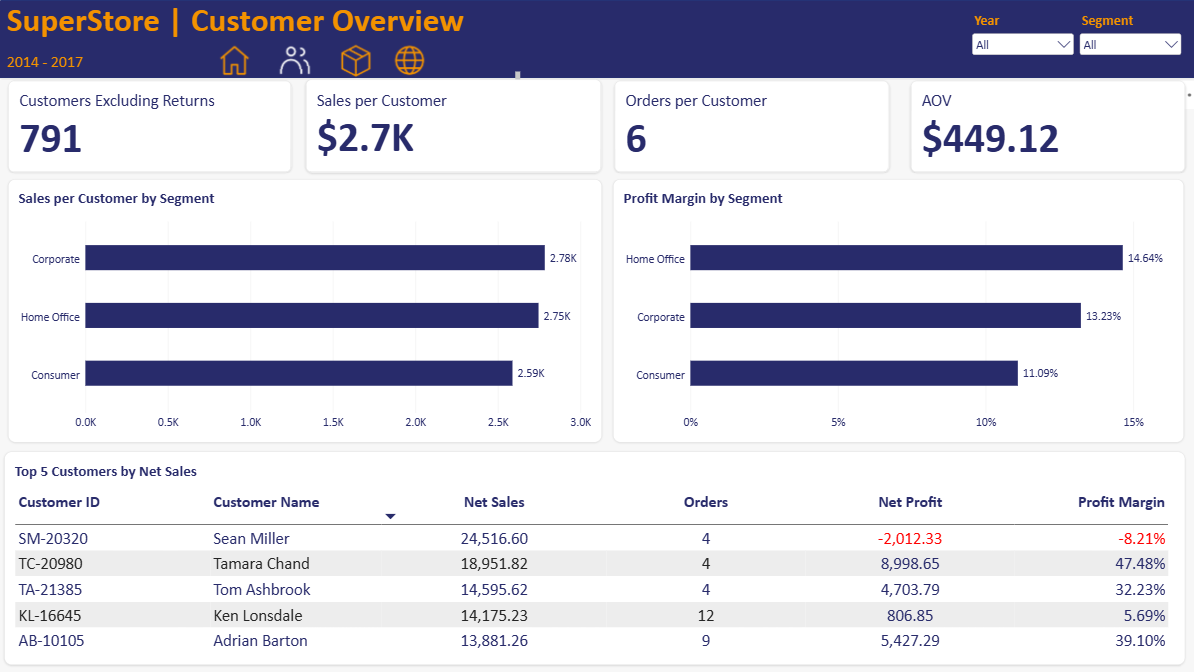

What the dashboard file says about the page in this screenshot:
{"tool":"powerbi","page":{"name":"Customers","canvas":[1920,1080],"ordinal":3},"visuals":[{"type":"shape","box":[0,0,1920.1,128.5],"z":0},{"type":"textbox","title":"SuperStore | Customer Overview","box":[14.5,0,821.6,130.3],"z":1000},{"type":"slicer","title":"Year","fields":{"Values":["Orders.Order Date.Variation.Date Hierarchy.Year"]},"box":[1554.5,19.9,171.9,90.5],"z":2000},{"type":"cardVisual","fields":{"Data":["Orders.Customers Excluding Returns"]},"box":[16.3,130.3,454.2,148.4],"z":3000},{"type":"cardVisual","fields":{"Data":["Orders.Sales per Customer"]},"box":[492.2,128.5,474.1,150.2],"z":4000},{"type":"cardVisual","fields":{"Data":["Orders.Orders per Customer"]},"box":[985.6,129.8,440.5,148.2],"z":5000},{"type":"cardVisual","fields":{"Data":["Orders.AOV"]},"box":[1459.8,129.9,440,148],"z":6000},{"type":"clusteredBarChart","title":"Sales per Customer by Segment","fields":{"Category":["Orders.Segment"],"Y":["Orders.Sales per Customer"]},"box":[16.3,287.7,950.1,421.7],"z":7000},{"type":"barChart","title":"Profit Margin by Segment","fields":{"Category":["Orders.Segment"],"Y":["Orders.Profit Margin"]},"box":[984.5,287.7,913.9,421.7],"z":8000},{"type":"slicer","fields":{"Values":["Orders.Segment"]},"box":[1726.4,19.9,171.9,74.2],"z":9000},{"type":"tableEx","title":"Top 5 Customers by Net Sales","fields":{"Values":["Orders.Customer ID","Orders.Customer Name","Orders.Net Sales","Orders.Orders Excluding Returns","Orders.Profit Excluding Returns","Orders.Profit Margin"]},"box":[10.3,724.5,1889.5,341.7],"z":10000},{"type":"actionButton","box":[426.4,63.8,97,61.3],"z":11000},{"type":"actionButton","box":[329.4,63.8,97,61.3],"z":12000},{"type":"actionButton","box":[523.4,63.8,97,61.3],"z":13000},{"type":"actionButton","box":[610.2,63.8,97,61.3],"z":14000}]}

Visuals, with their boxes in screenshot pixels (x1, y1, x2, y2), scaled from the page's 1920x1080 canvas onto the 1194x672 screenshot:
shape: select_region(0, 0, 1193, 80)
"SuperStore | Customer Overview" textbox: select_region(9, 0, 520, 81)
"Year" slicer: select_region(967, 12, 1074, 69)
cardVisual - Orders.Customers Excluding Returns: select_region(10, 81, 293, 173)
cardVisual - Orders.Sales per Customer: select_region(306, 80, 601, 173)
cardVisual - Orders.Orders per Customer: select_region(613, 81, 887, 173)
cardVisual - Orders.AOV: select_region(908, 81, 1181, 173)
"Sales per Customer by Segment" clusteredBarChart: select_region(10, 179, 601, 441)
"Profit Margin by Segment" barChart: select_region(612, 179, 1181, 441)
slicer - Orders.Segment: select_region(1074, 12, 1181, 59)
"Top 5 Customers by Net Sales" tableEx: select_region(6, 451, 1181, 663)
actionButton: select_region(265, 40, 325, 78)
actionButton: select_region(205, 40, 265, 78)
actionButton: select_region(325, 40, 386, 78)
actionButton: select_region(379, 40, 440, 78)
